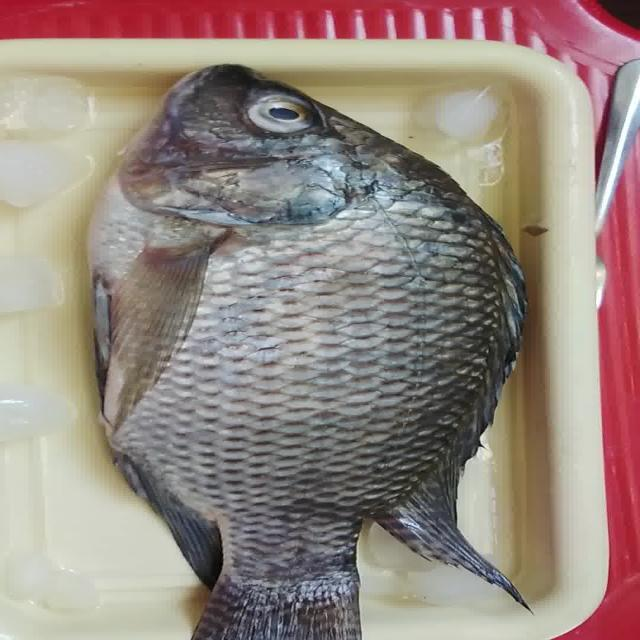Fresh: (101, 176, 579, 640), (225, 83, 340, 141)
